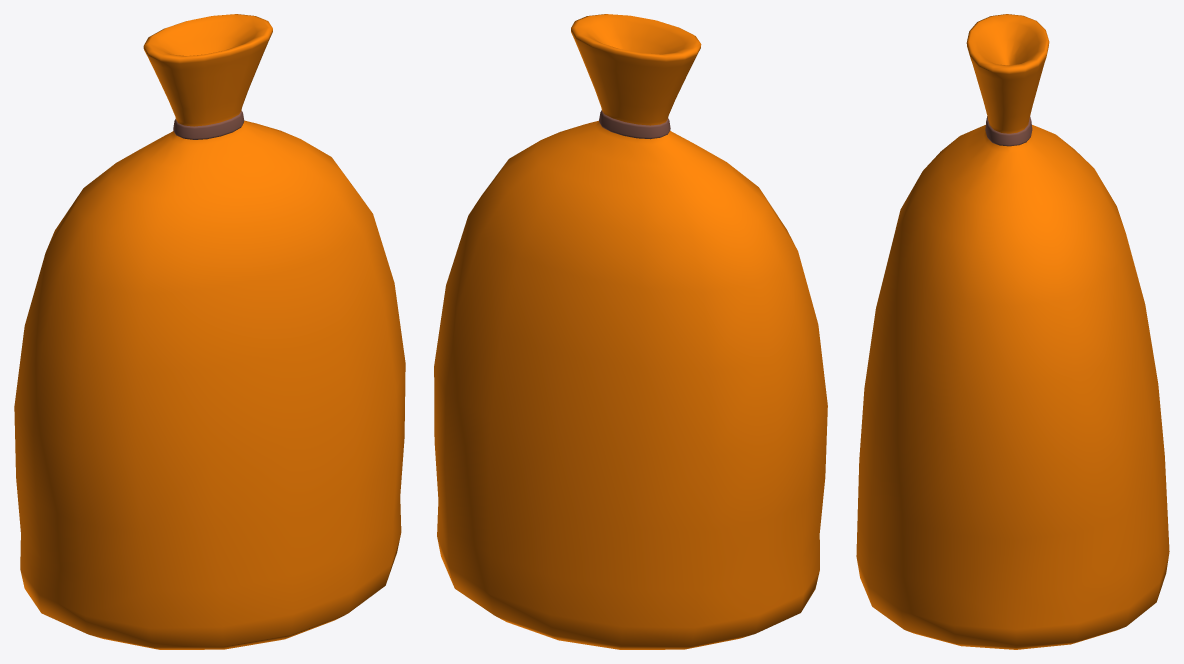
Rendered from Farm_1_Bag_2.glb.
3 views of the same model, side by side, from view 1: azimuth 30°, elevation 25°; view 2: azimuth 150°, elevation 25°; view 3: azimuth 270°, elevation 25° (orthographic). The views are drawn at different scales.
Visible parts, largest first — view 1: Farm_1_Bag_2; view 2: Farm_1_Bag_2; view 3: Farm_1_Bag_2.
Boxes of the visible parts, x1,y1,x2,y2 form: Farm_1_Bag_2: [14, 14, 405, 649]; Farm_1_Bag_2: [434, 14, 827, 649]; Farm_1_Bag_2: [856, 14, 1169, 649].
Size of the model in its own units: 0.5582 by 0.8353 by 0.4337.
1 material, 1 textured.
